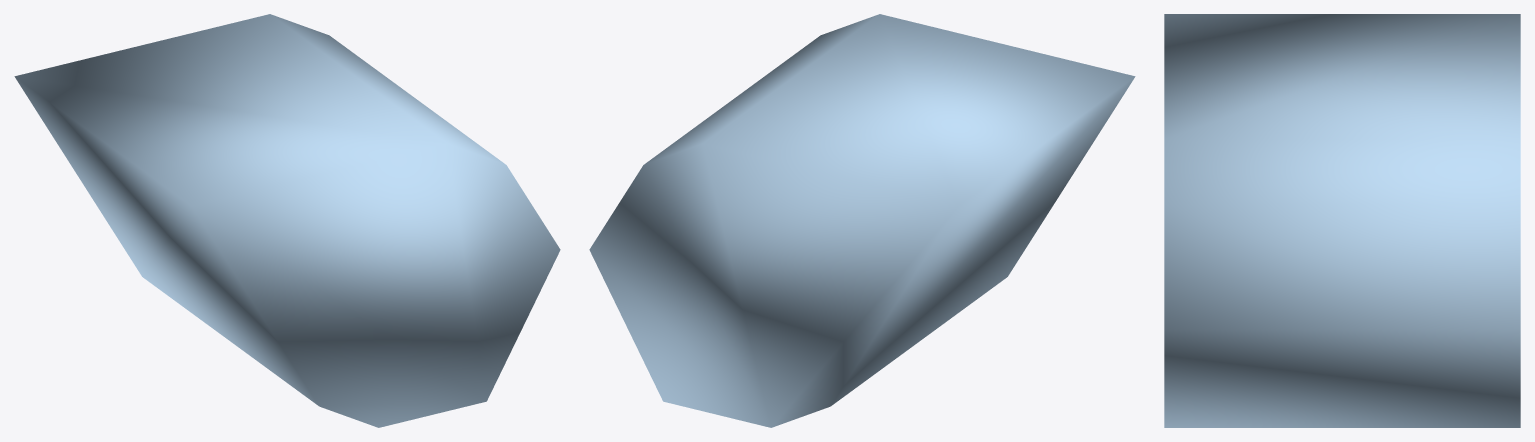
The model's file is emerald.glb.
3 views of the same model, side by side, from view 1: azimuth 30°, elevation 25°; view 2: azimuth 150°, elevation 25°; view 3: azimuth 270°, elevation 25° (orthographic).
Visible parts, largest first — view 1: emerald; view 2: emerald; view 3: emerald.
Part boxes in pixels (x1,y1,x2,y2): emerald: (14, 14, 560, 427); emerald: (589, 14, 1135, 427); emerald: (1164, 14, 1520, 427).
Bounding box in the file's own units: 2.89 × 2 × 2.4.
